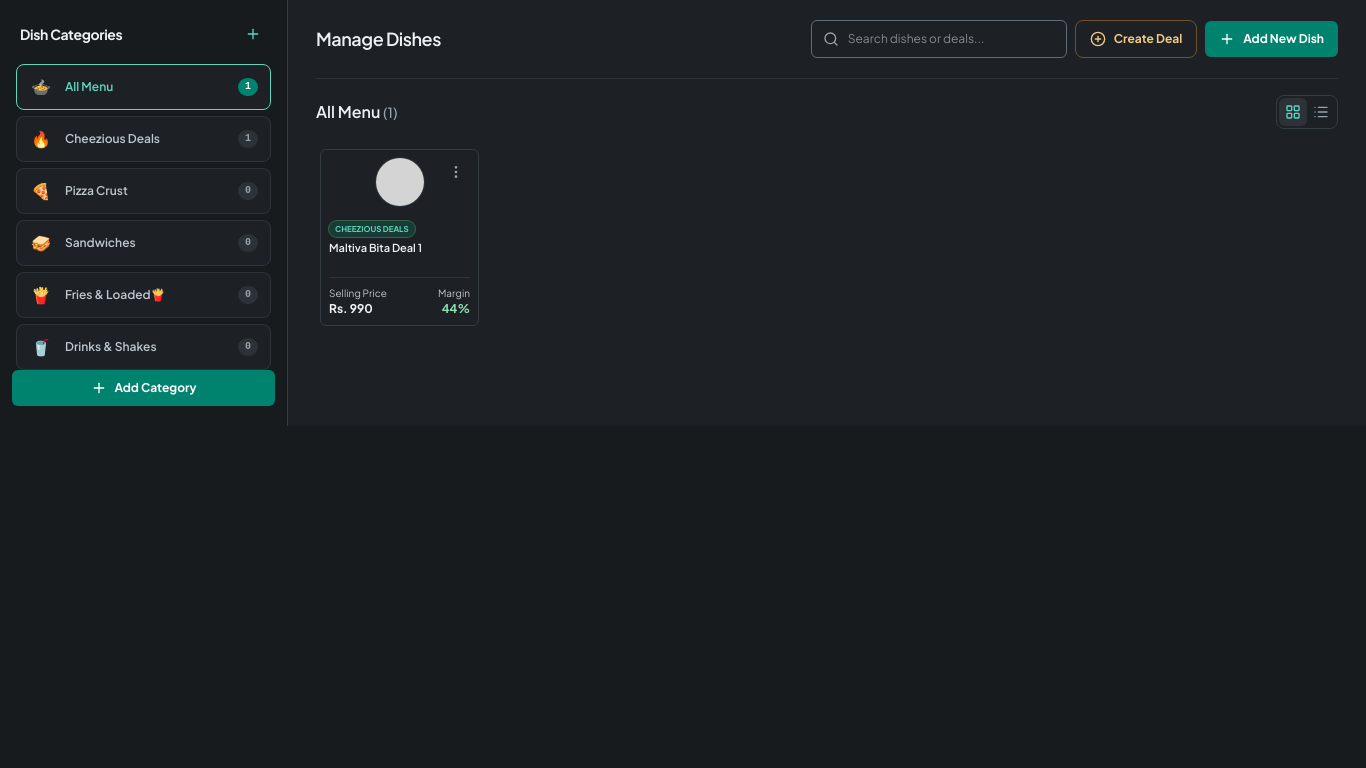
it: workflow remediation › traps focus and restores the initiating button after Escape
The image size is (1366, 768).
Click the button "Maltiva Bita Deal 1": (376, 248) [329, 241, 422, 255]
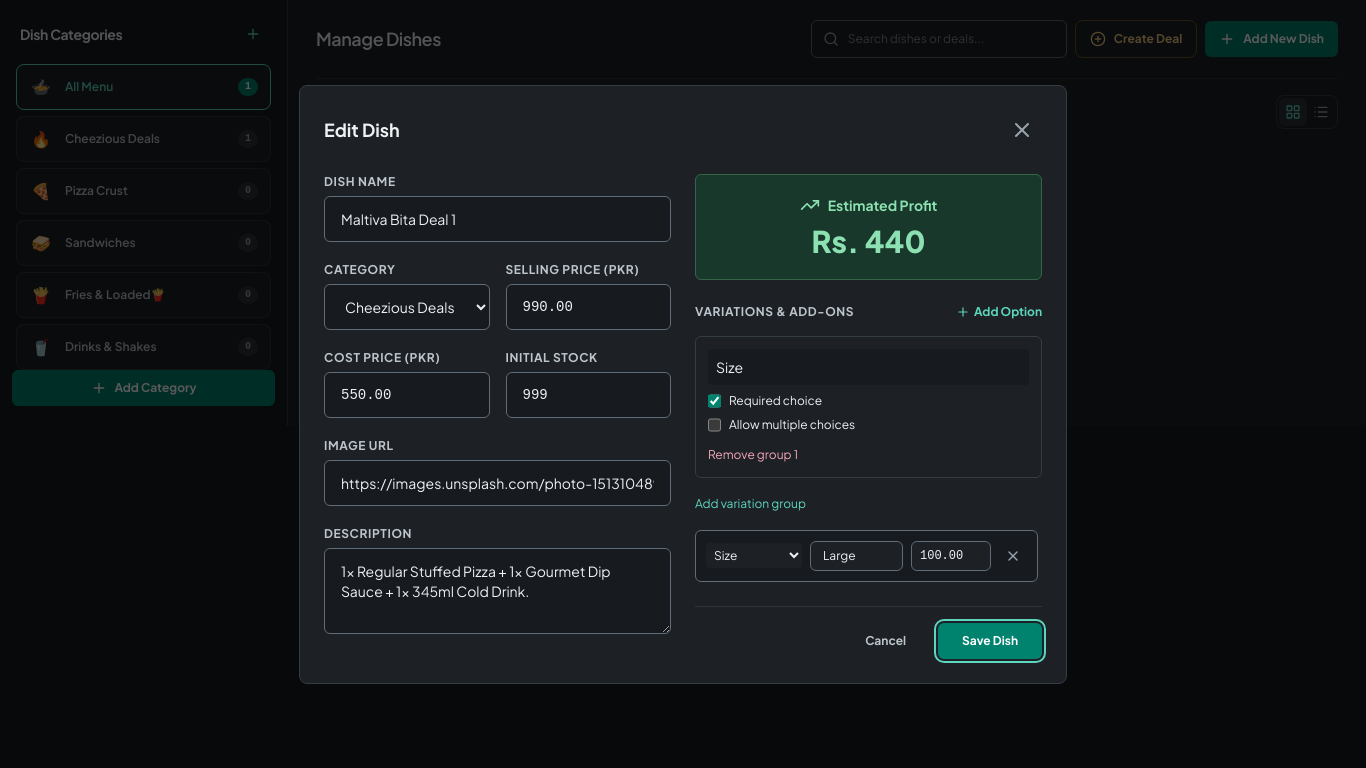
Press Tab
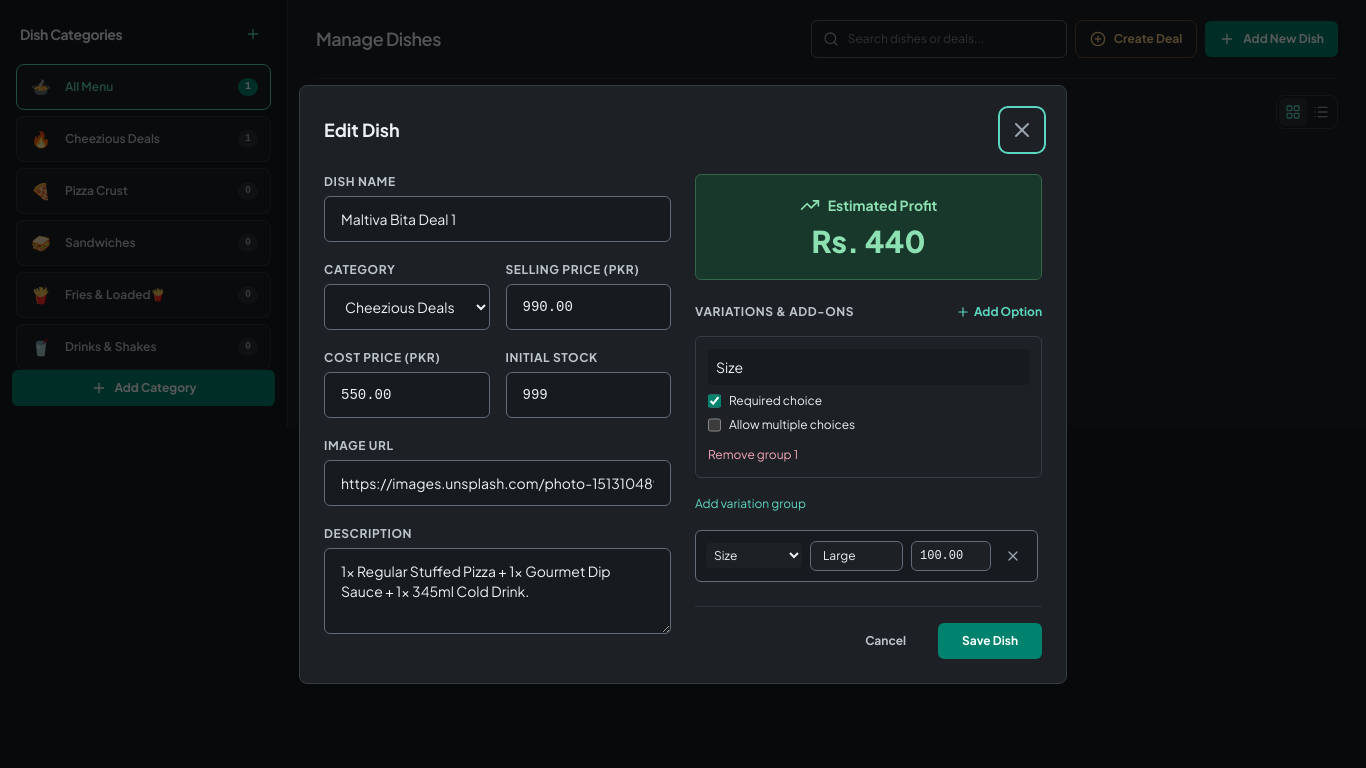
Press Escape
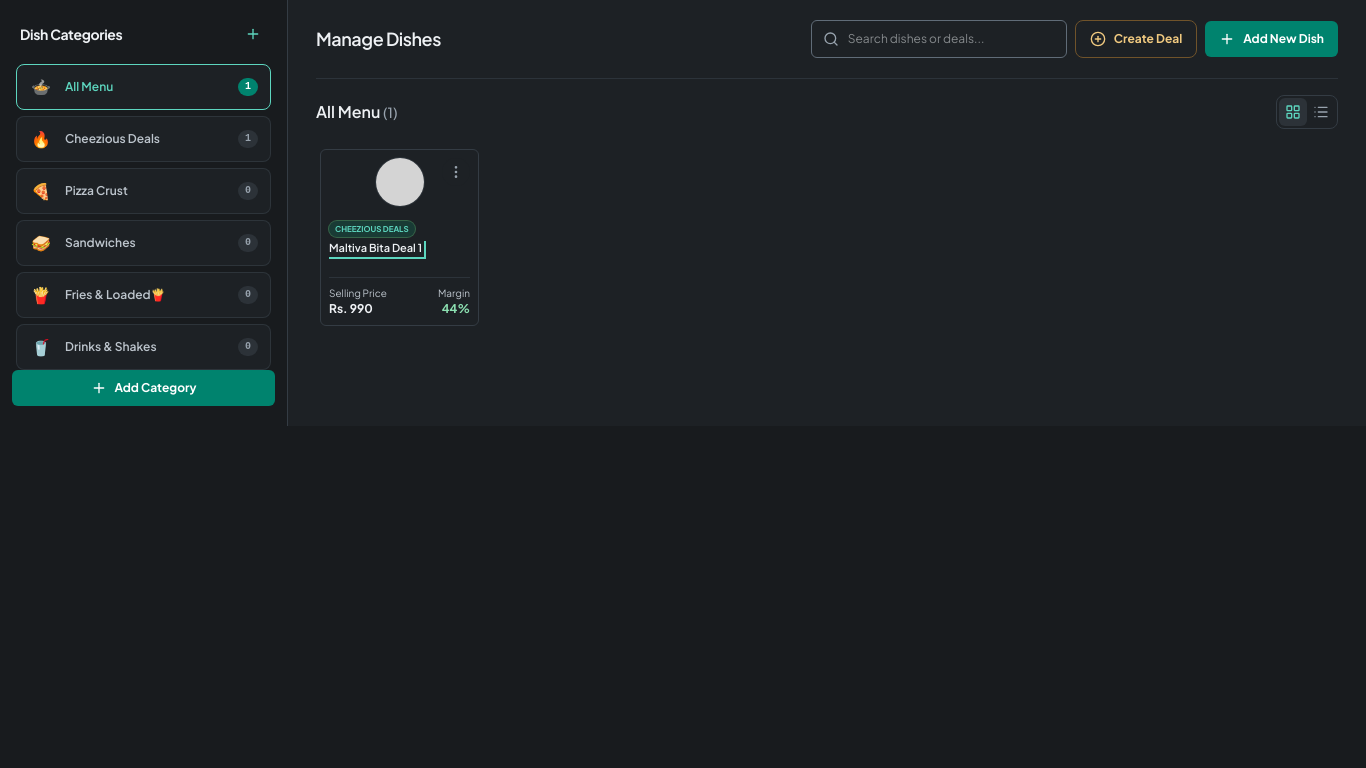
Now the dialog is gone
